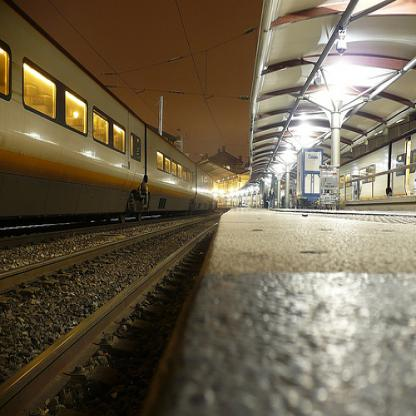train: (0, 0, 220, 228), (339, 131, 415, 203)
